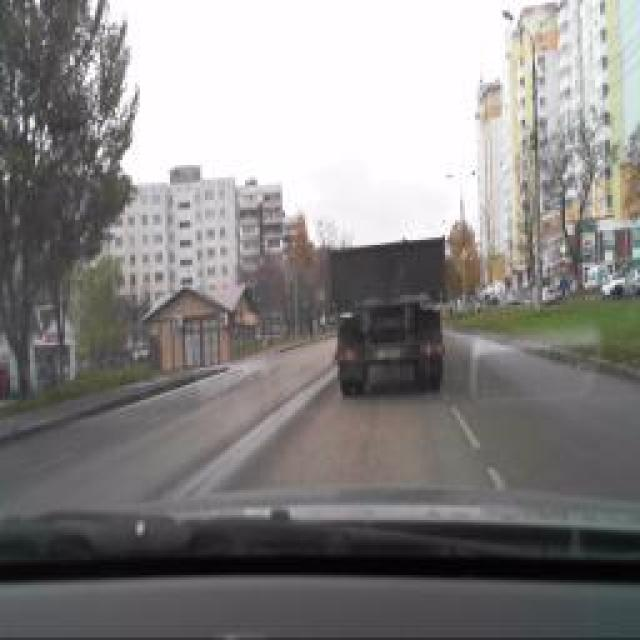sign: (459, 246, 469, 262)
